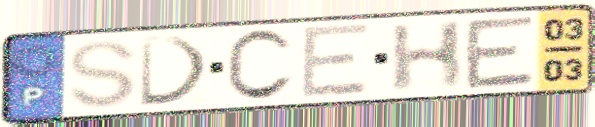C: (223, 27, 297, 105)
D: (137, 34, 214, 109)
E: (462, 12, 539, 92), (299, 21, 374, 102)
H: (388, 17, 469, 95)
S: (65, 38, 140, 111)
